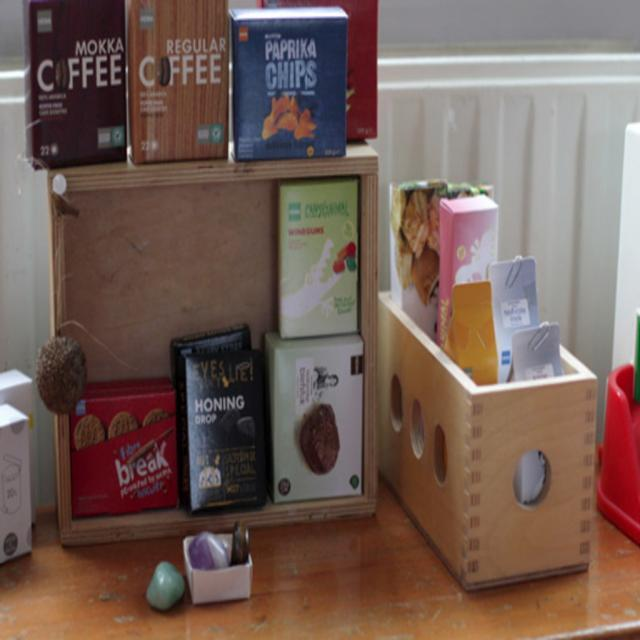book: (230, 3, 352, 164), (174, 330, 269, 533), (20, 0, 131, 171), (128, 2, 234, 168), (274, 178, 362, 340)
